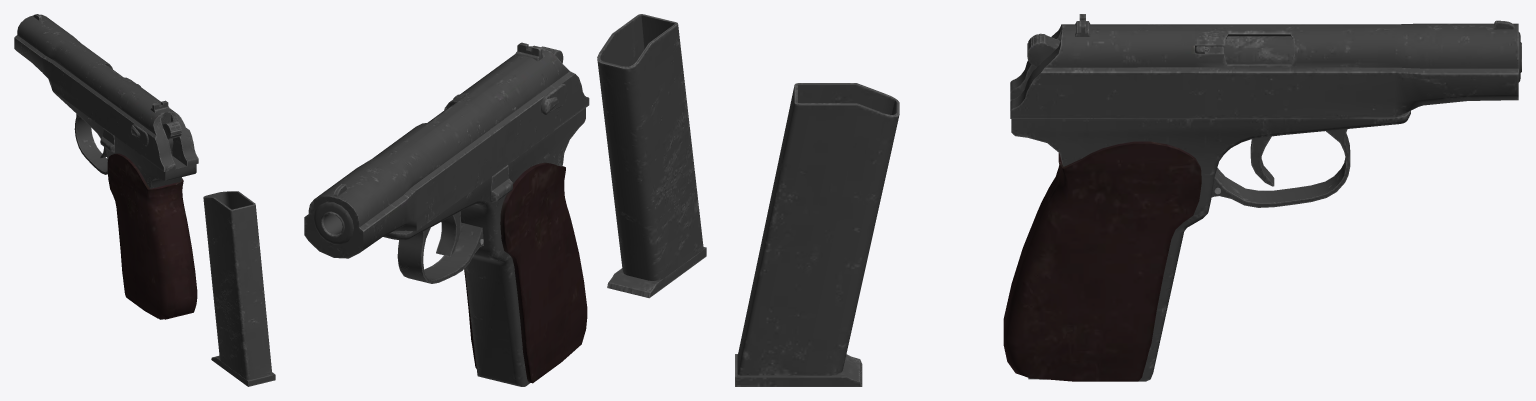
Rendered from ge_makarov.gltf.
3 views of the same model, side by side, from view 1: azimuth 30°, elevation 25°; view 2: azimuth 150°, elevation 25°; view 3: azimuth 270°, elevation 25° (orthographic). The views are drawn at different scales.
Visible parts, largest first — view 1: Body, Slide, Magazine, Hammer, Safety; view 2: Body, Slide, Magazine, Trigger, Barrel, Safety; view 3: Body, Slide, Magazine, Barrel, Hammer, Trigger.
Boxes of the visible parts, x1,y1,x2,y2 form: Body: (52, 90, 197, 319); Slide: (14, 14, 198, 171); Magazine: (203, 191, 275, 386); Hammer: (162, 121, 181, 153); Safety: (131, 124, 148, 146); Body: (383, 108, 587, 386); Slide: (304, 42, 589, 258); Magazine: (597, 14, 706, 298); Trigger: (436, 211, 460, 256); Barrel: (321, 105, 452, 237); Safety: (541, 83, 567, 114); Body: (1003, 110, 1410, 381); Slide: (1010, 14, 1520, 118); Magazine: (735, 83, 899, 386); Barrel: (1223, 36, 1521, 72); Hammer: (1027, 33, 1060, 67); Trigger: (1250, 136, 1274, 186).
Bounding box in the file's own units: 0.0257 × 0.1276 × 0.2557.
1 material, 1 textured.
